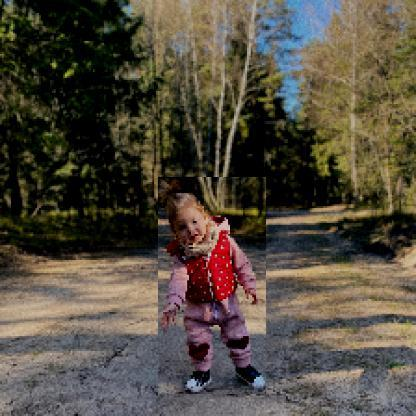child: (159, 178, 268, 396)
